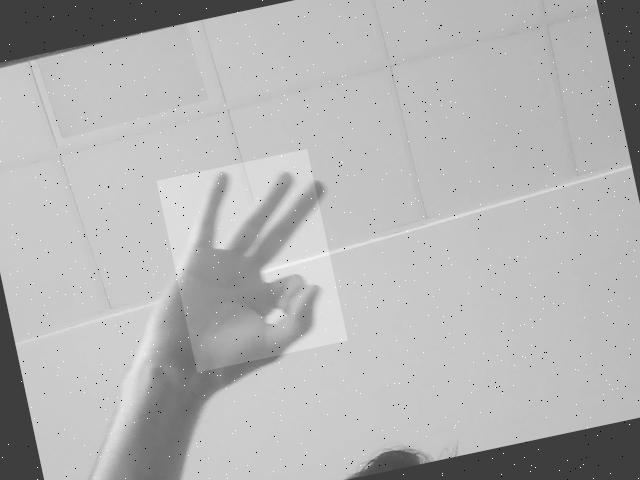OK: (156, 148, 348, 373)
